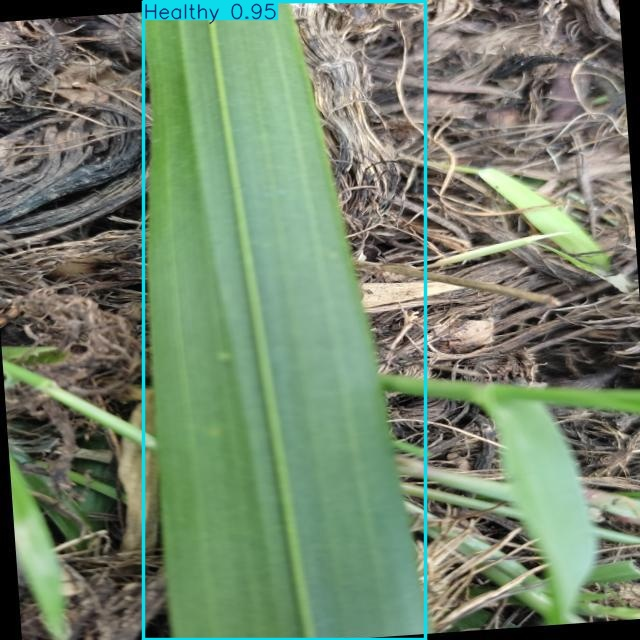Healthy: (144, 2, 425, 640)
